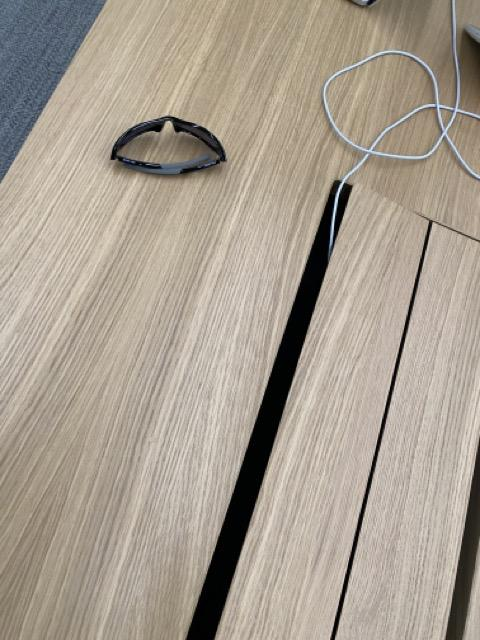Sunglasses: (112, 113, 228, 178)
